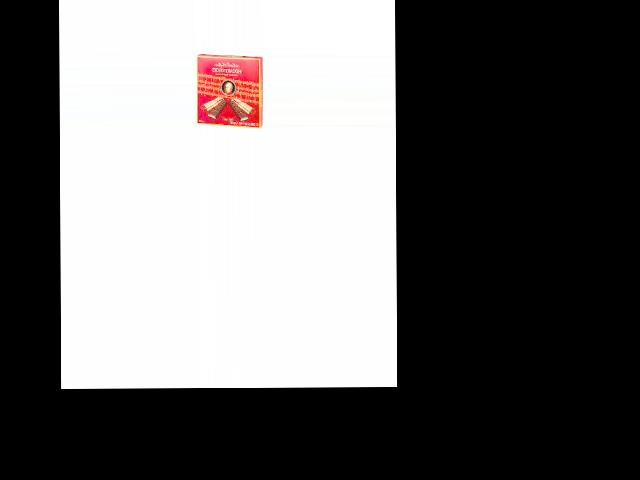chocolate: (194, 55, 263, 130)
